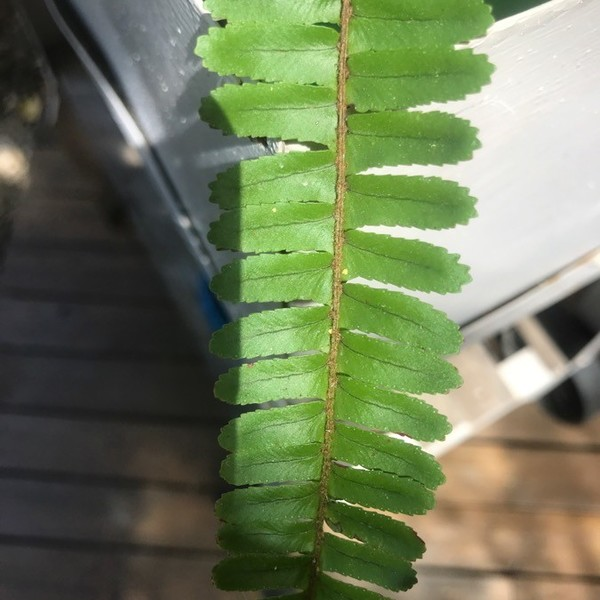obstacle: (185, 16, 467, 577)
